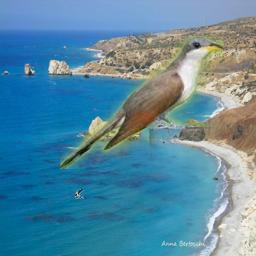Cuckoo: (60, 36, 224, 169)
Swallow: (75, 189, 84, 199)
